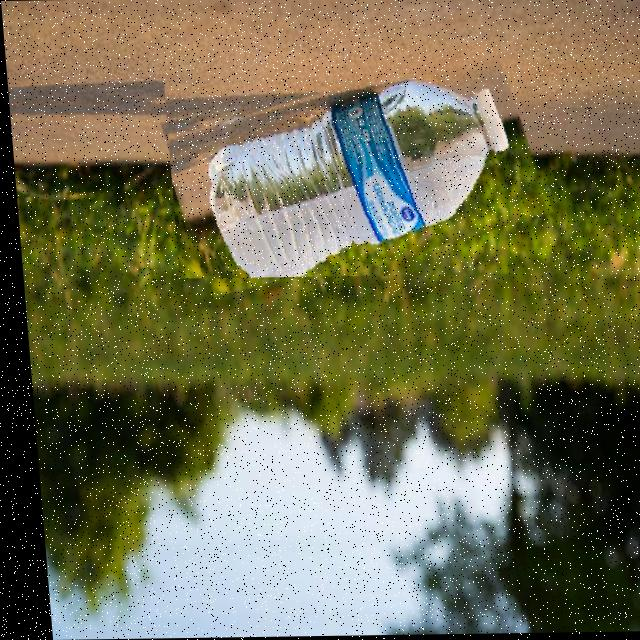litter: (160, 56, 544, 278), (481, 107, 519, 189)
